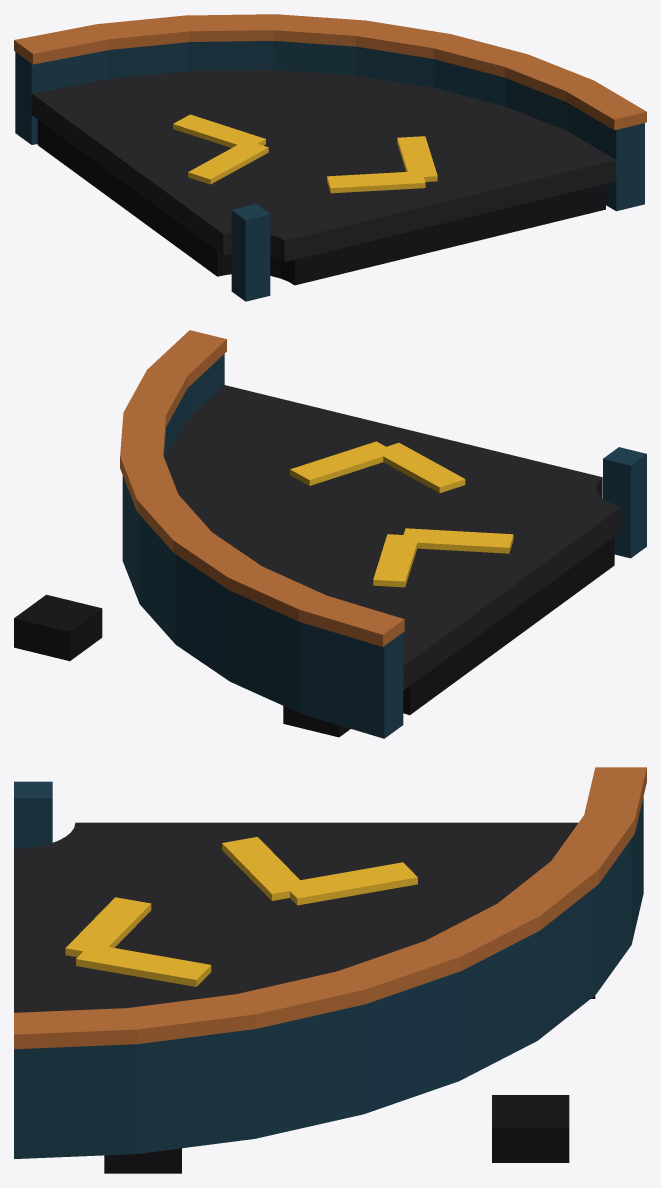
Rendered from belt_corner_r.obj.
3 renders of one model, top to bottom at view 1: azimuth 30°, elevation 25°; view 2: azimuth 150°, elevation 25°; view 3: azimuth 270°, elevation 25°, orthographic. The views are drawn at different scales.
Parts seen in each view (by area): view 1: Belt, Frame, Arrows; view 2: Belt, Frame, Arrows; view 3: Frame, Belt, Arrows.
Part boxes in pixels (x1,y1,x2,y2): Belt: (31,70,616,285); Frame: (14,14,646,301); Arrows: (173,114,437,193); Belt: (165,385,621,715); Frame: (14,330,646,738); Arrows: (290,441,513,587); Frame: (14,767,646,1173); Belt: (14,822,578,1012); Arrows: (65,837,417,986).
Bounding box in the file's own units: 0.98 × 0.275 × 0.98.
